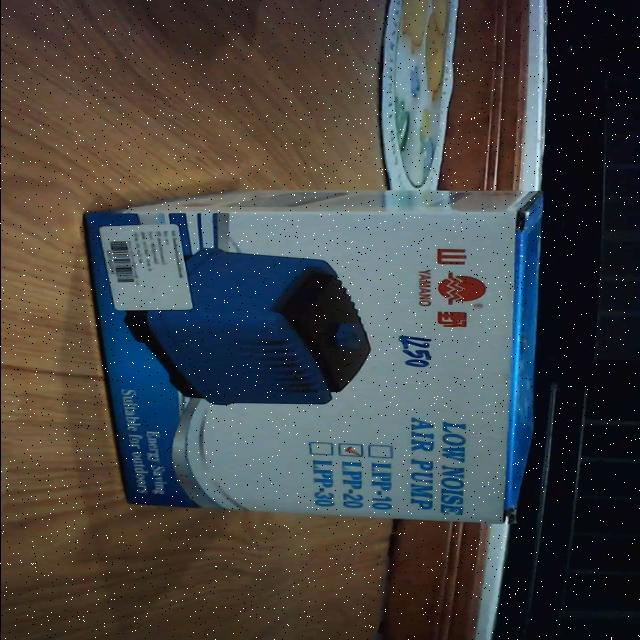YAMANO_LPP_20: (74, 182, 566, 530)
